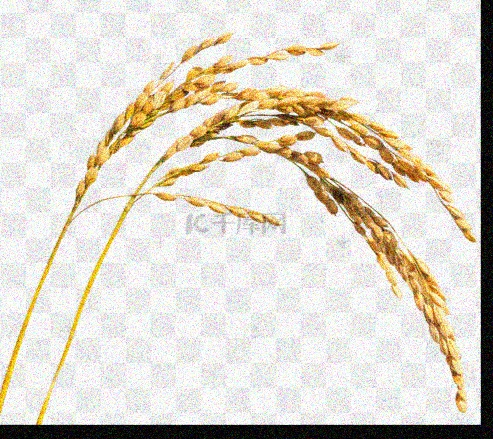rice: (121, 117, 465, 414), (60, 34, 476, 226)
